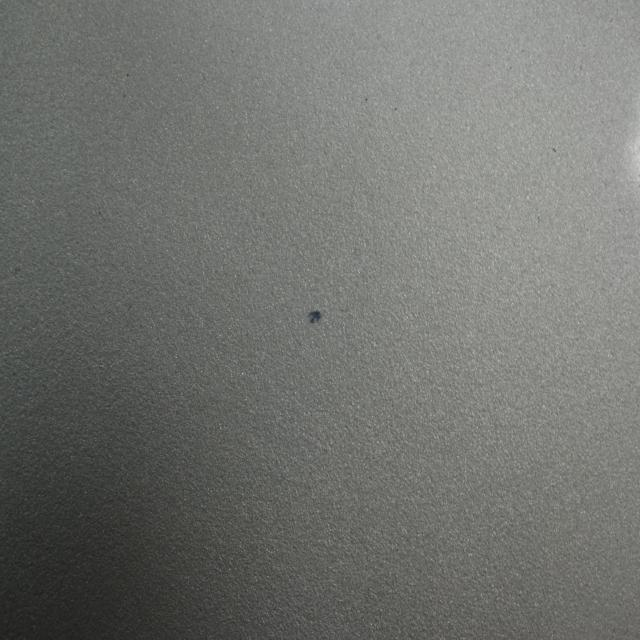dirt: (301, 298, 326, 331)
